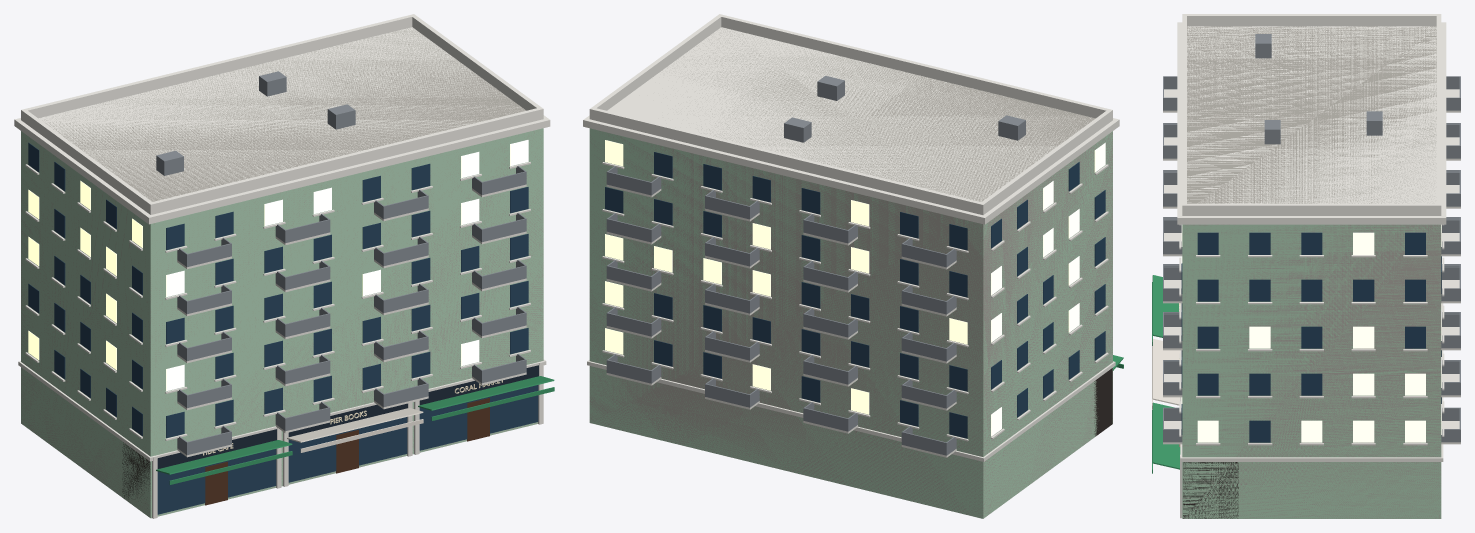
The model's file is BLD_MidRise_A.fbx.
3 renders of one model, left to right at view 1: azimuth 30°, elevation 25°; view 2: azimuth 150°, elevation 25°; view 3: azimuth 270°, elevation 25°, orthographic.
Parts seen in each view (by area): view 1: BLD_MidRise_A__BODY, BLD_MidRise_A__COL_Main; view 2: BLD_MidRise_A__BODY, BLD_MidRise_A__COL_Main; view 3: BLD_MidRise_A__BODY, BLD_MidRise_A__COL_Main.
Part boxes in pixels (x1,y1,x2,y2): BLD_MidRise_A__BODY: (14,14,554,518); BLD_MidRise_A__COL_Main: (21,28,543,517); BLD_MidRise_A__BODY: (583,14,1123,518); BLD_MidRise_A__COL_Main: (589,27,1112,518); BLD_MidRise_A__BODY: (1152,14,1460,518); BLD_MidRise_A__COL_Main: (1182,26,1441,518).
Size of the model in its own units: 28.6 by 21.65 by 19.06.
